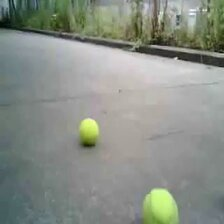tennis: (143, 187, 178, 224), (78, 117, 98, 145)
